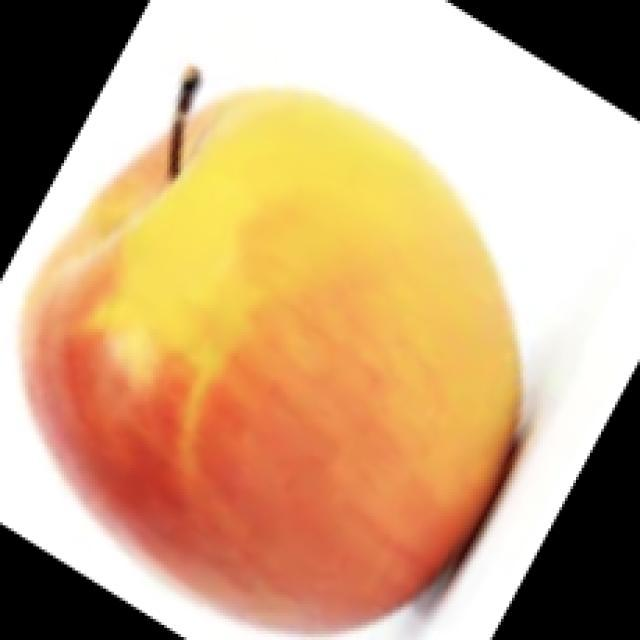Apple: (20, 80, 525, 634)
